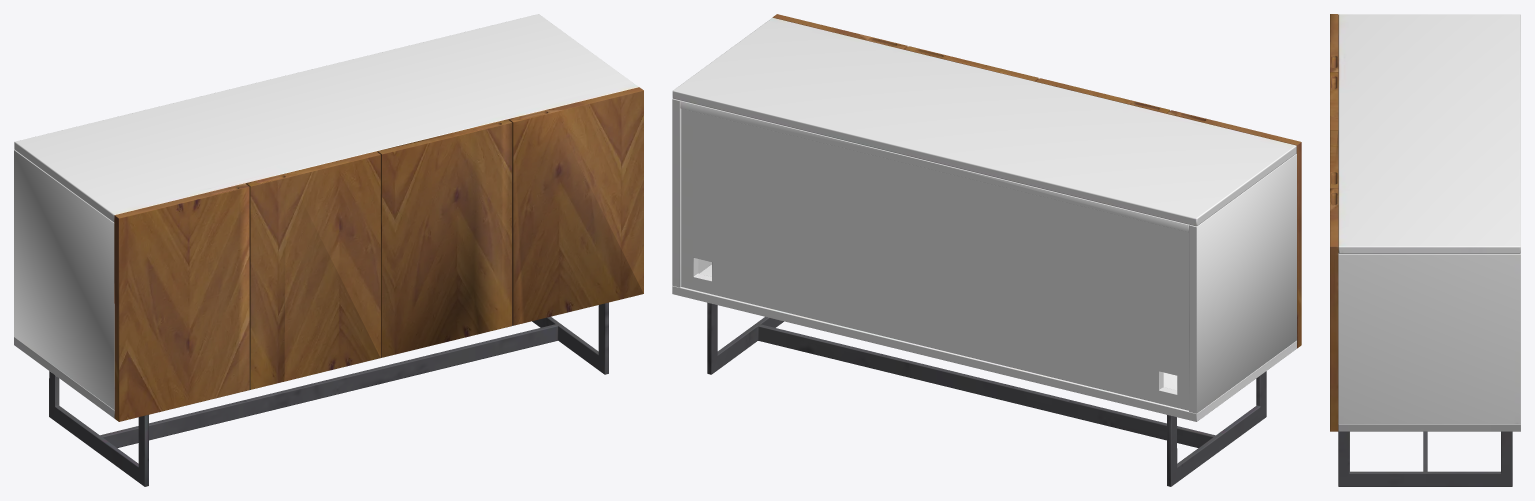
Rendered from reclaimed_tv_stand__furniture.glb.
3 renders of one model, left to right at view 1: azimuth 30°, elevation 25°; view 2: azimuth 150°, elevation 25°; view 3: azimuth 270°, elevation 25°, orthographic. The views are drawn at different scales.
Parts seen in each view (by area): view 1: Object_6; view 2: Object_6; view 3: Object_6.
Part boxes in pixels (x1,y1,x2,y2): Object_6: (14, 14, 643, 486); Object_6: (672, 14, 1301, 486); Object_6: (1330, 14, 1520, 486).
Size of the model in its own units: 1.53 by 0.7791 by 0.5306.
Materials: 1 (1 with a texture image).
